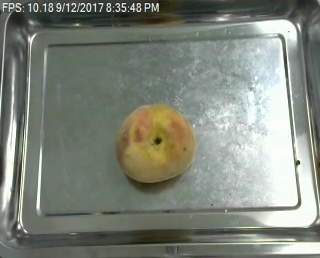Peach: (115, 103, 195, 182)
